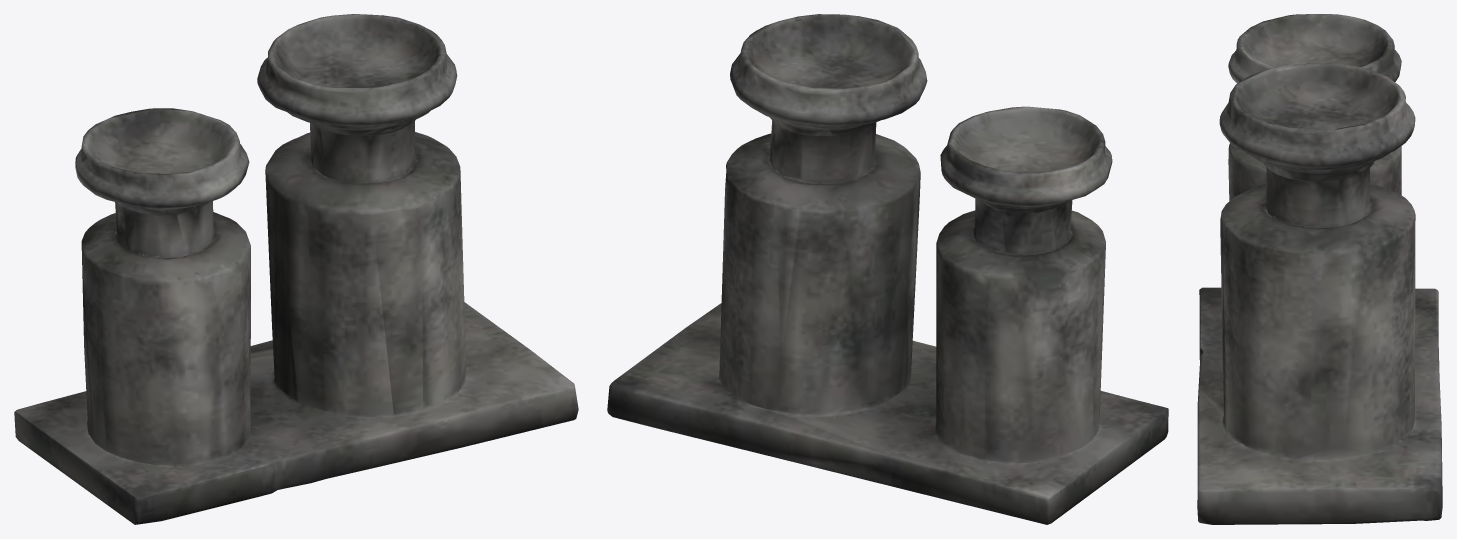
Rendered from old-granite-chimney-stack-v002.glb.
3 renders of one model, left to right at view 1: azimuth 30°, elevation 25°; view 2: azimuth 150°, elevation 25°; view 3: azimuth 270°, elevation 25°, orthographic. The views are drawn at different scales.
Parts seen in each view (by area): view 1: old-granite-chimney-stack; view 2: old-granite-chimney-stack; view 3: old-granite-chimney-stack.
Part boxes in pixels (x1=…): old-granite-chimney-stack: x1=14, y1=14, x2=578, y2=524; old-granite-chimney-stack: x1=607, y1=14, x2=1168, y2=524; old-granite-chimney-stack: x1=1197, y1=14, x2=1442, y2=524.
Bounding box in the file's own units: 2.36 × 1.85 × 1.16.
1 material, 1 textured.
